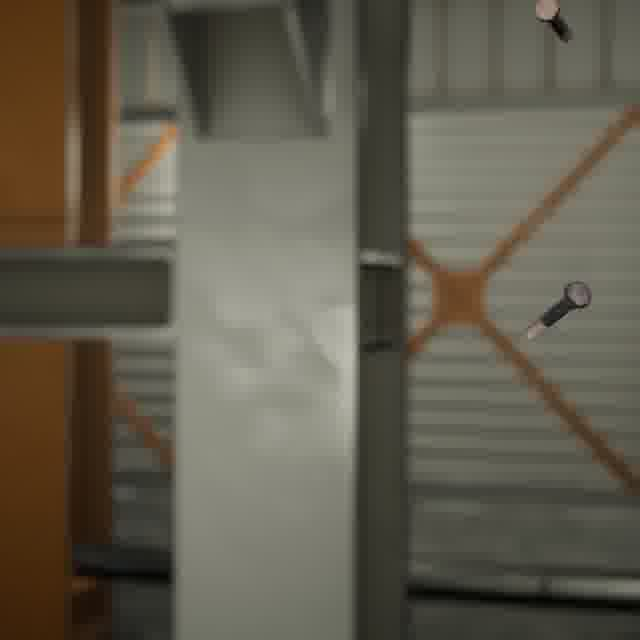bolt: (520, 276, 595, 344), (528, 0, 577, 47)
